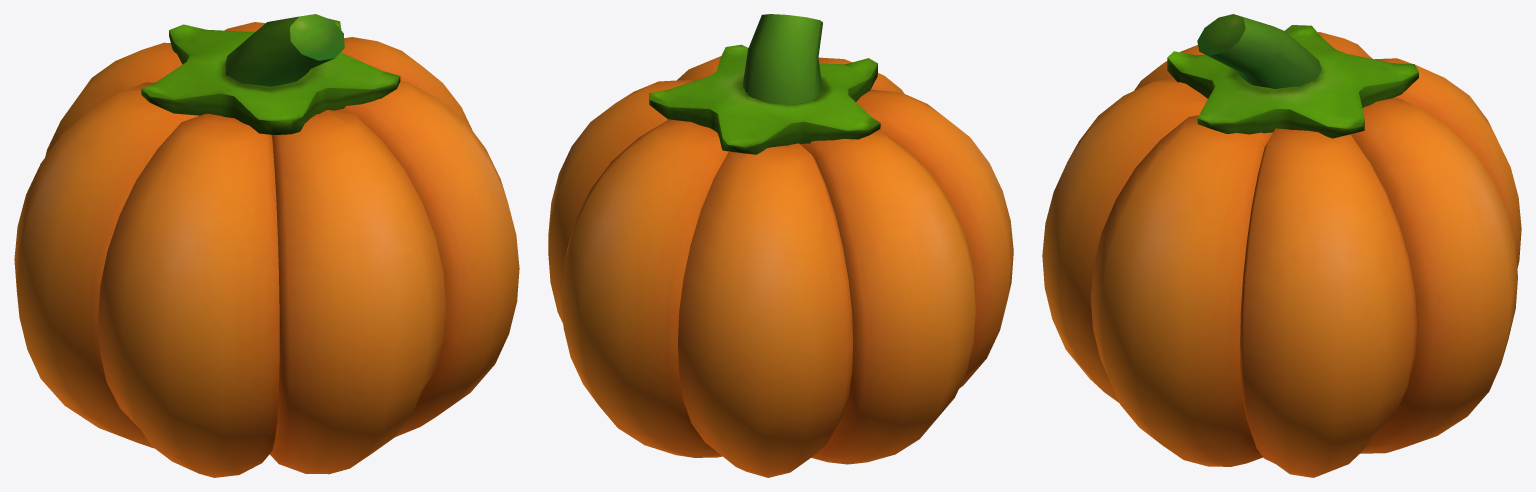
The model's file is pumpkin.fbx.
The picture shows the model from 3 angles, left to right: view 1: azimuth 30°, elevation 25°; view 2: azimuth 150°, elevation 25°; view 3: azimuth 270°, elevation 25°; orthographic projection. The views are drawn at different scales.
Parts seen in each view (by area): view 1: pumpkin; view 2: pumpkin; view 3: pumpkin.
Boxes of the visible parts, left/top/right/bottom form: pumpkin: left=14, top=14, right=519, bottom=477; pumpkin: left=548, top=14, right=1013, bottom=477; pumpkin: left=1042, top=14, right=1521, bottom=477.
Size of the model in its own units: 94.59 by 89.46 by 92.04.
